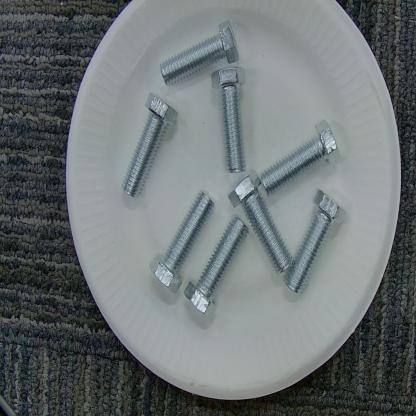FOD: (116, 18, 342, 319)
